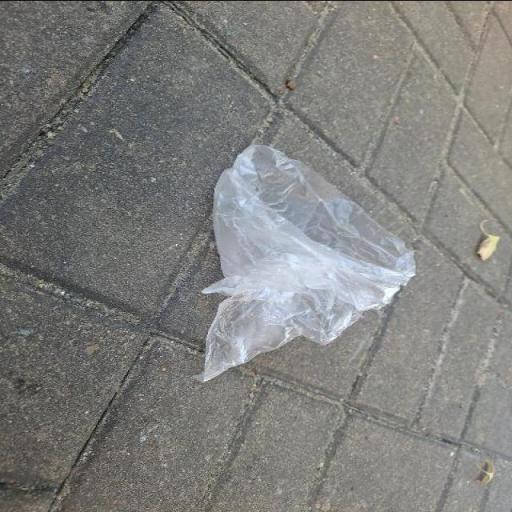plastic-bag: (191, 140, 417, 385)
